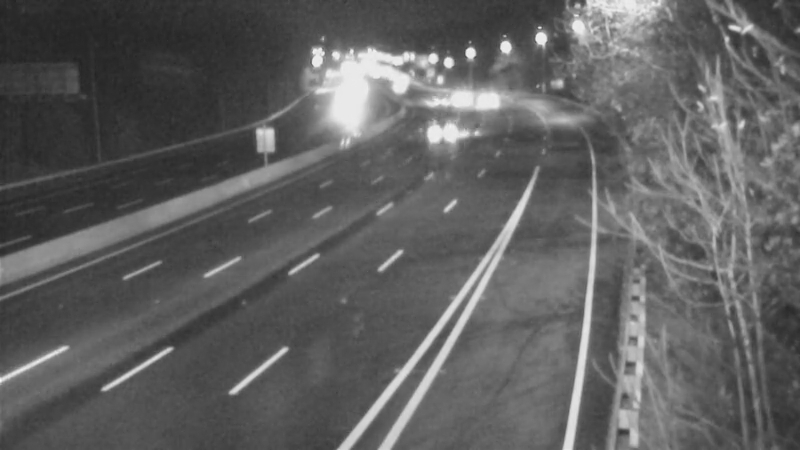vehicle: (372, 61, 422, 111), (436, 67, 486, 117), (411, 82, 461, 132), (465, 79, 515, 129), (416, 106, 466, 156)
